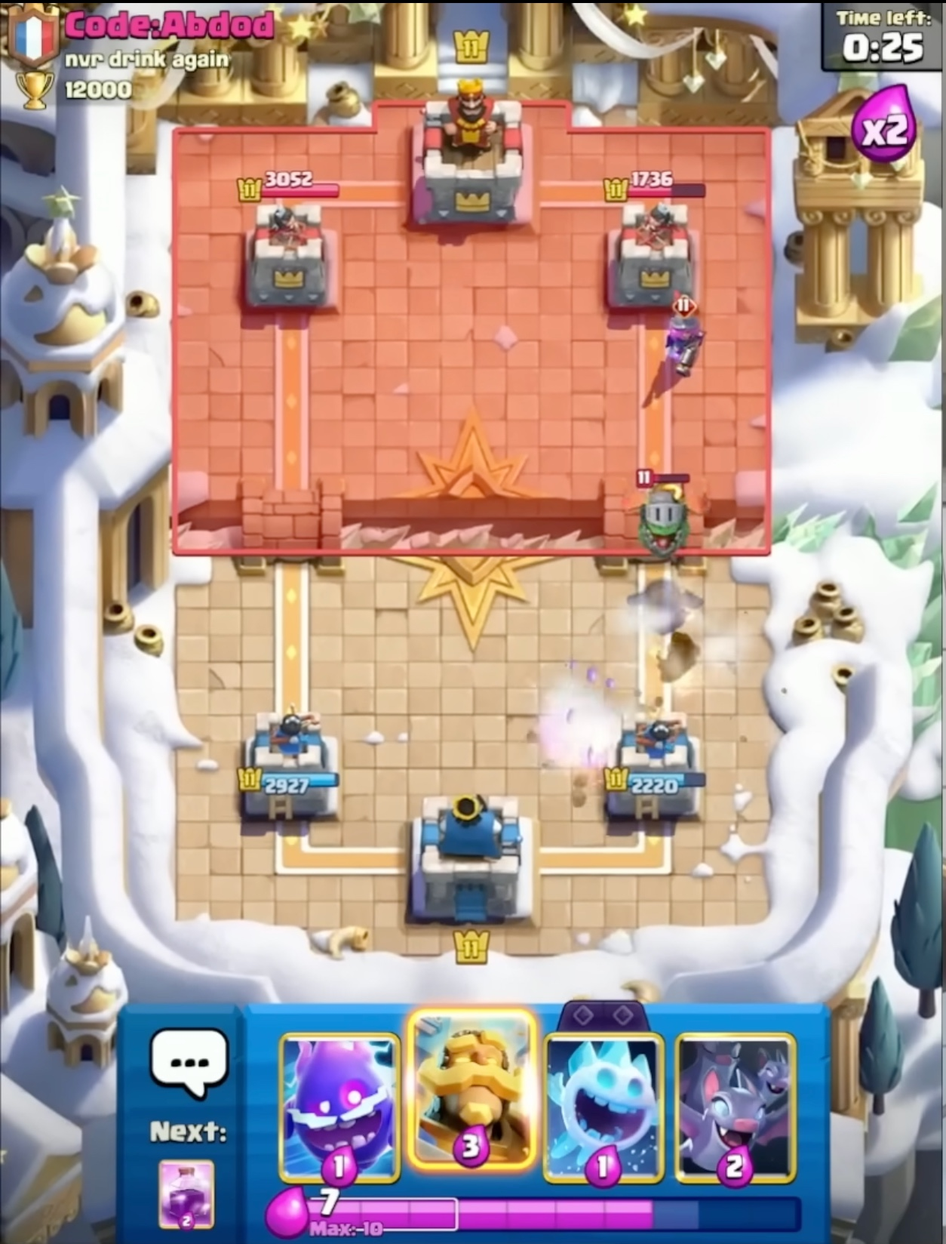evo-musketeer: (658, 287, 709, 381)
inferno-dragon: (630, 463, 701, 566)
